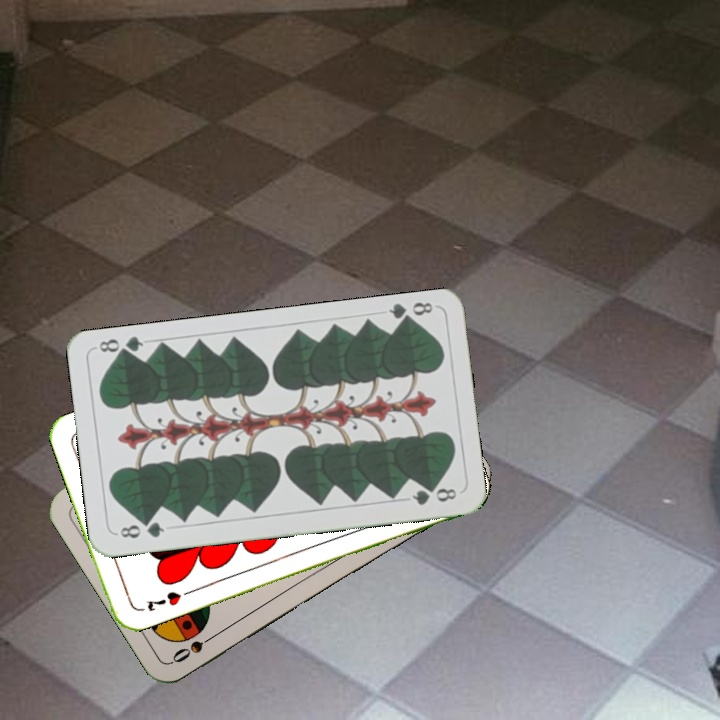G8: (385, 298, 435, 328), (113, 517, 167, 541)
H7: (143, 587, 184, 614)
SO: (168, 628, 222, 666)
